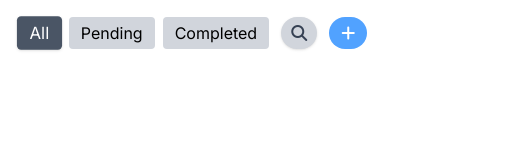
it: FilterTask › opens search when the search button is clicked
This screenshot has width=528, height=160.
Click the button titled "Search tasks" at (299, 33), box [281,17,317,49]
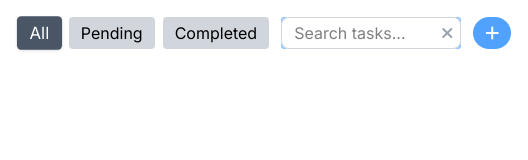
Expected: the field with placeholder "Search tasks..." is shown, [281,17,461,49]
